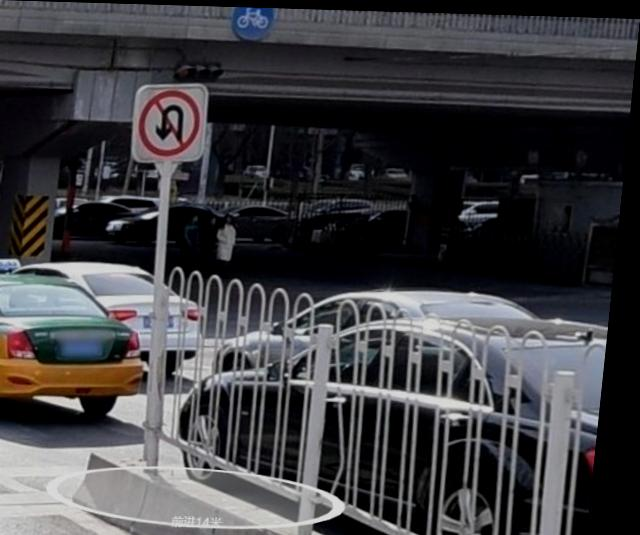not_u_turn_left: (138, 90, 204, 155)
